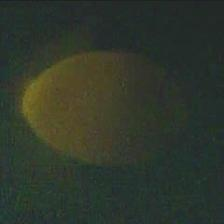fertile: (18, 50, 170, 166)
